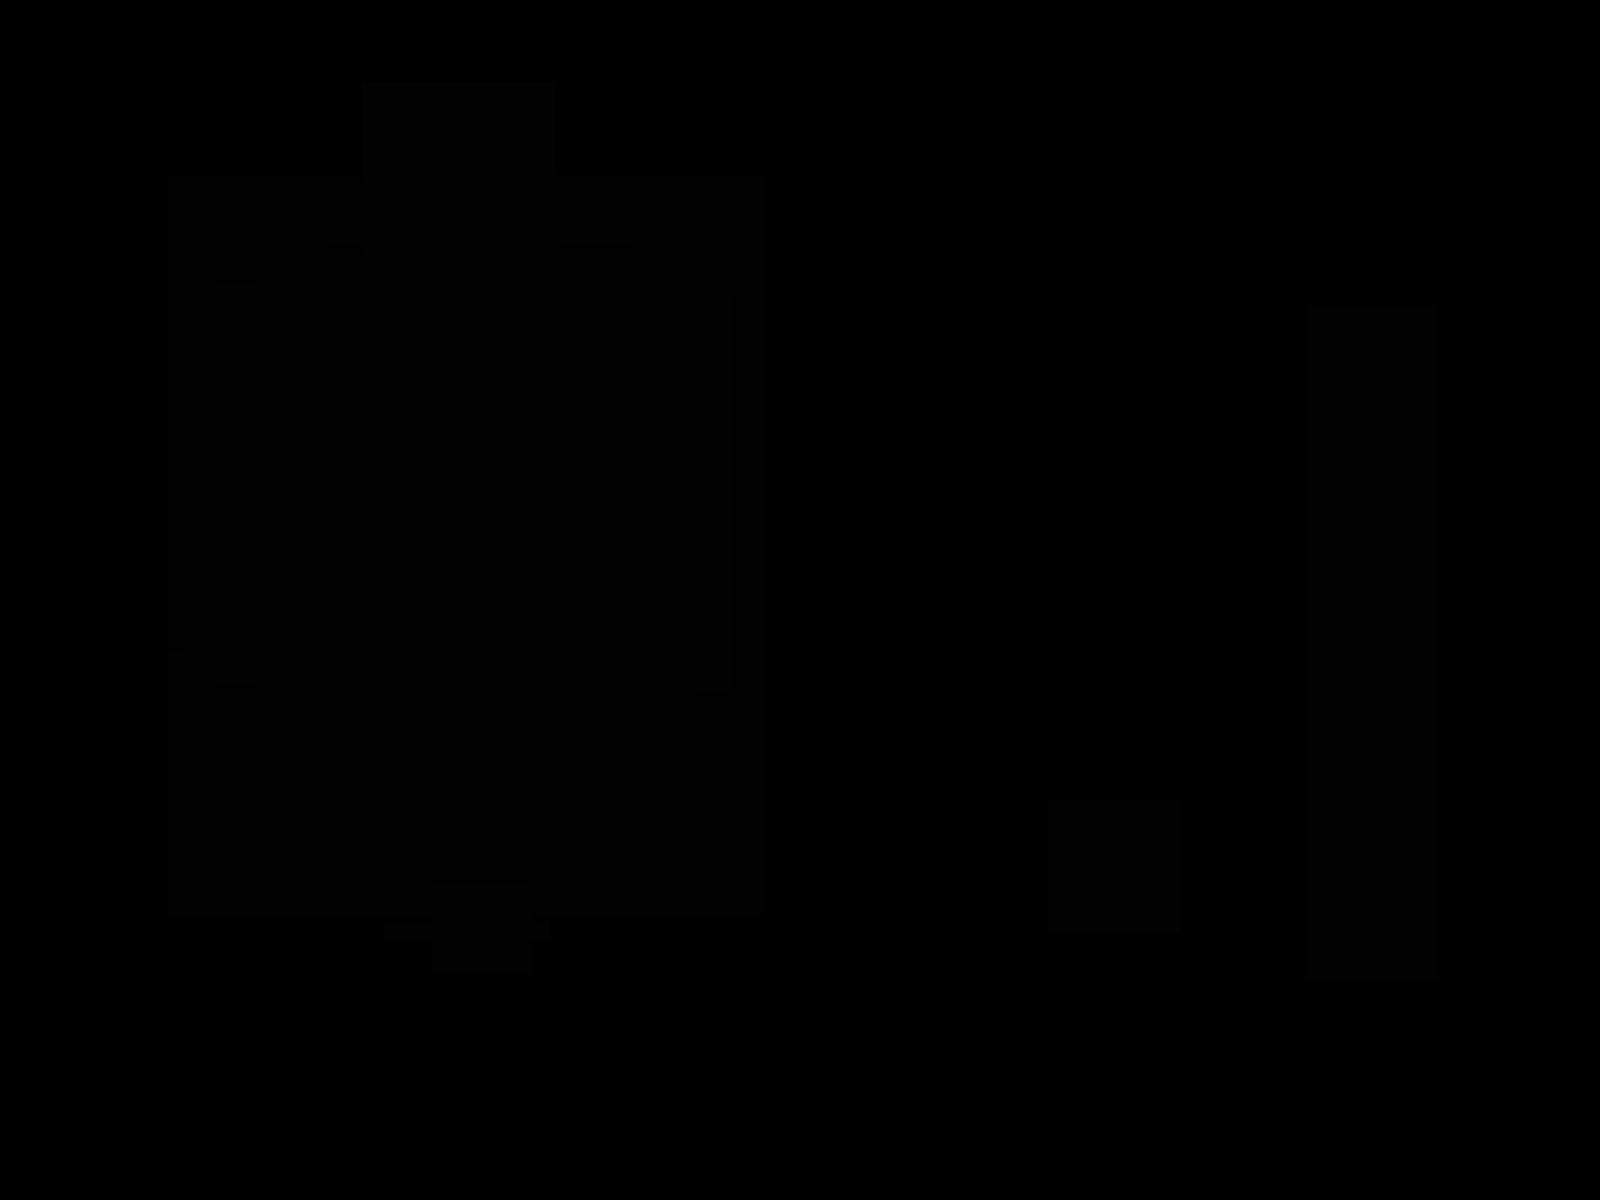1_overall: (77, 57, 1509, 1008)
2_handwritten: (1308, 305, 1436, 978)
3_typography: (325, 184, 639, 243), (215, 286, 260, 686), (693, 296, 734, 691), (384, 921, 551, 939), (168, 650, 189, 727)
4_illustration: (168, 175, 763, 914)
5_stamp: (362, 82, 556, 257), (1048, 800, 1180, 932), (432, 884, 532, 976)
